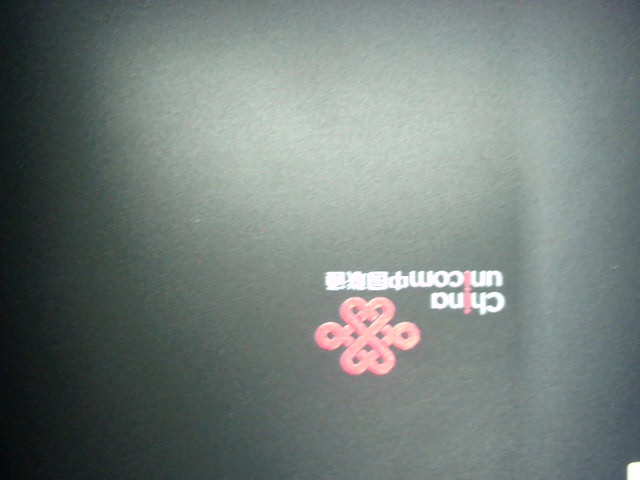AC_ChinaUnicom: (305, 255, 513, 380)
